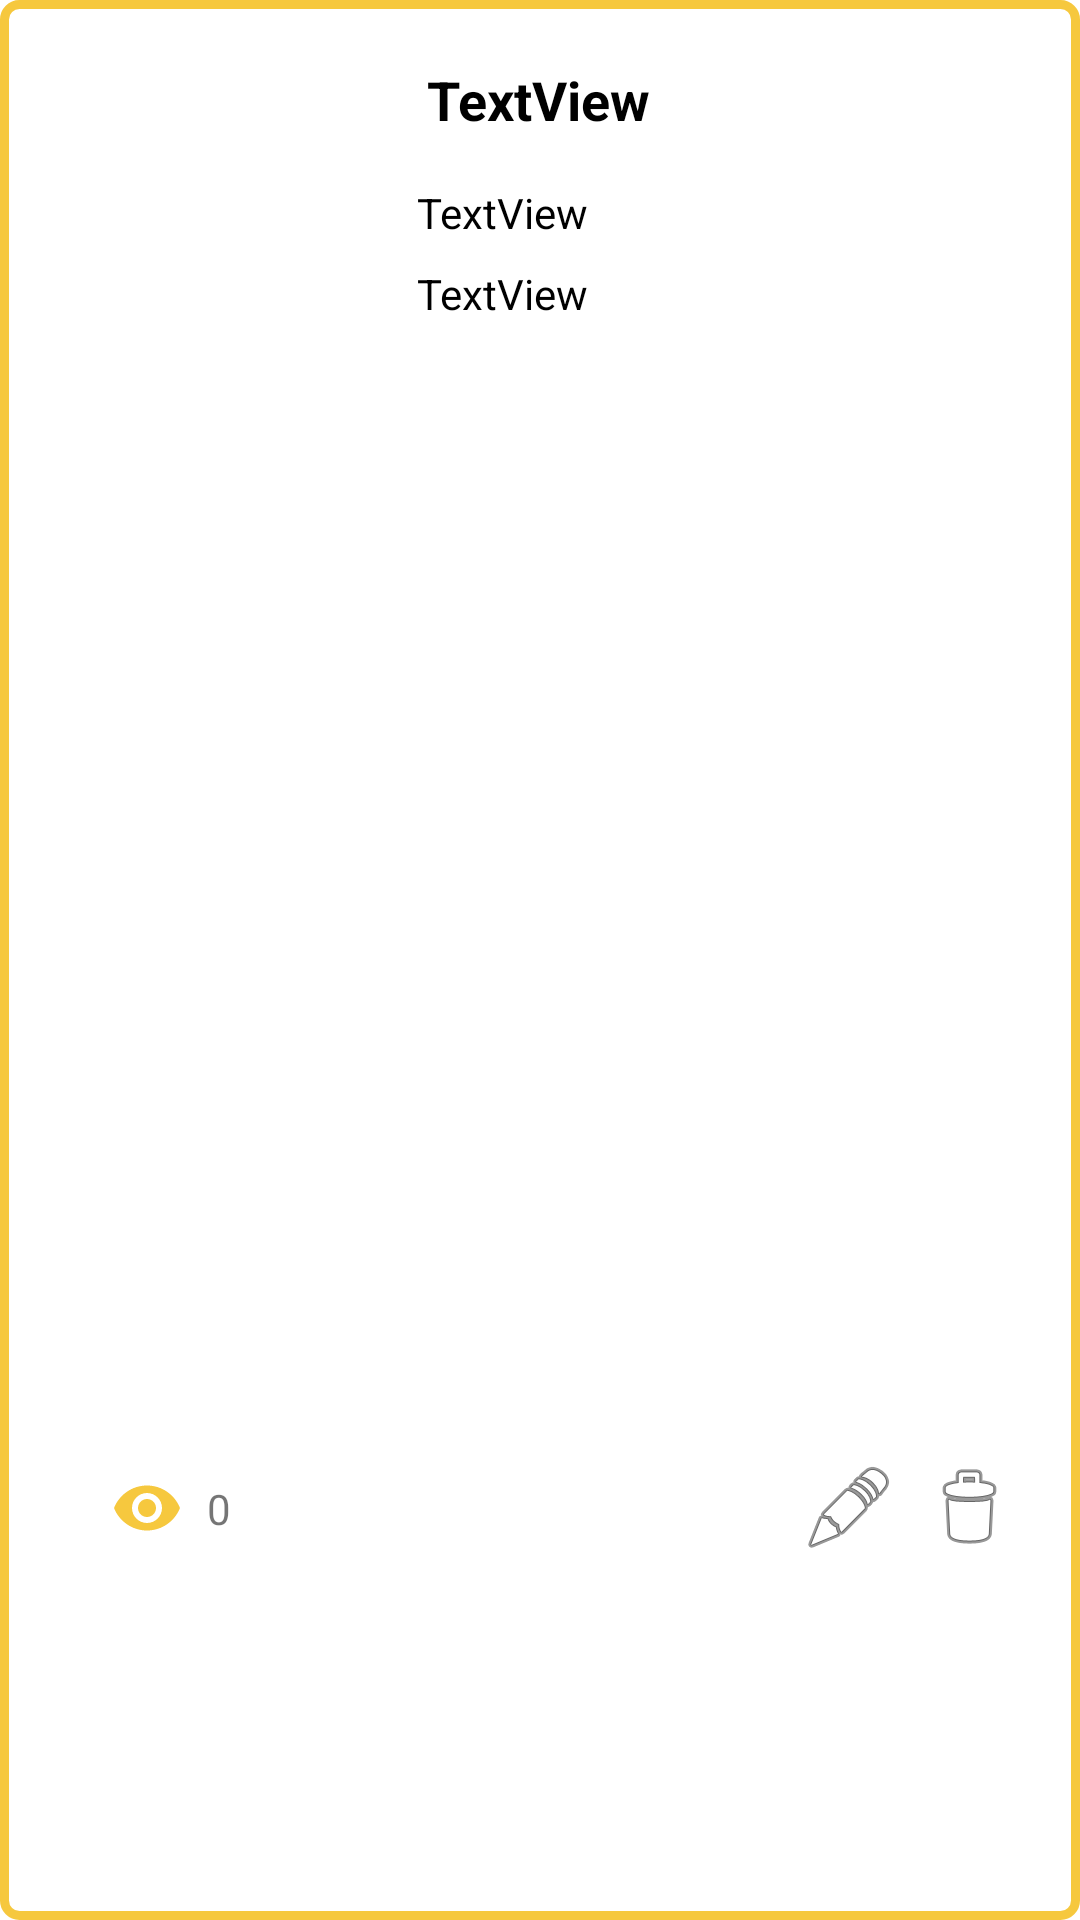

Where to tap for icons on this 1080 x 1920 app screen, as (x=x, y=y):
delete: (x=969, y=1506)
edit: (x=848, y=1507)
eye: (x=147, y=1508)
